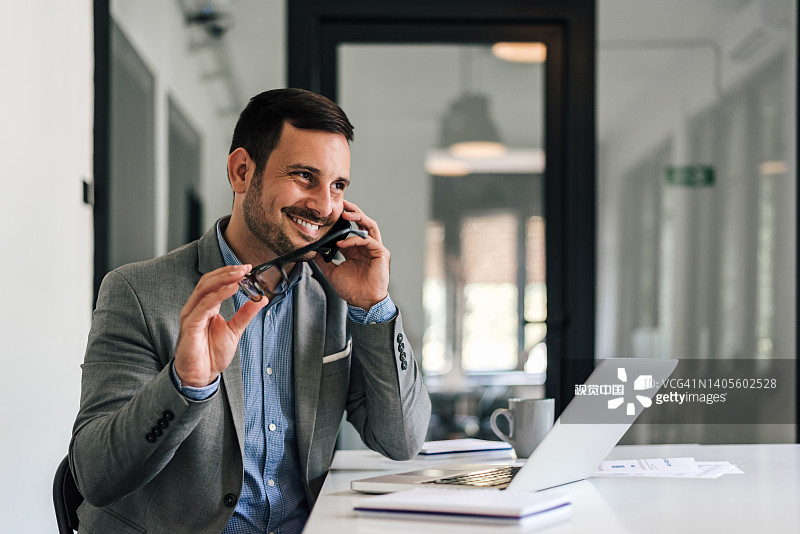calling: (310, 196, 399, 317)
no-phone: (161, 238, 337, 406)
